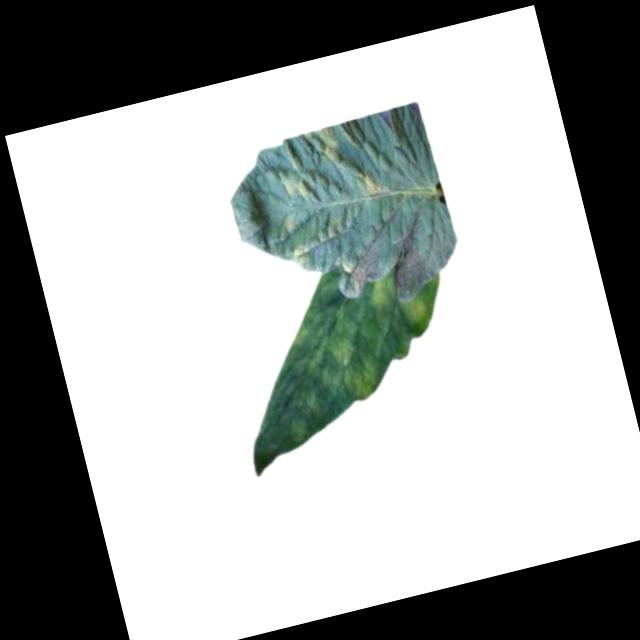Leaf_Mold: (311, 310, 360, 373), (300, 123, 346, 170), (360, 268, 402, 313), (275, 164, 314, 204), (342, 360, 379, 402), (353, 166, 387, 203), (286, 239, 321, 272), (399, 293, 431, 326), (277, 208, 305, 239)
